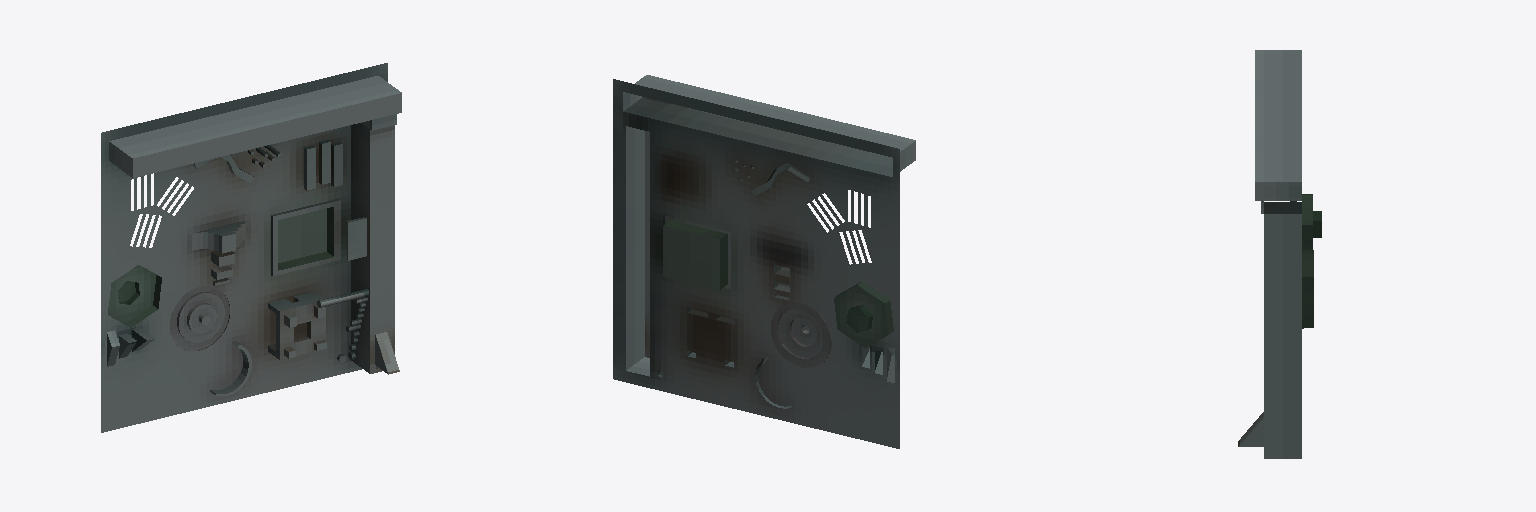
3 renders of one model, left to right at view 1: azimuth 30°, elevation 25°; view 2: azimuth 150°, elevation 25°; view 3: azimuth 270°, elevation 25°, orthographic.
Visible parts, largest first — view 1: Model_0; view 2: Model_0; view 3: Model_0.
Boxes of the visible parts, <box> form: Model_0: <box>101,63,401,432</box>; Model_0: <box>613,75,915,448</box>; Model_0: <box>1238,50,1321,458</box>.
Size of the model in its own units: 320 by 320 by 80.4.
Materials: 1 (1 with a texture image).